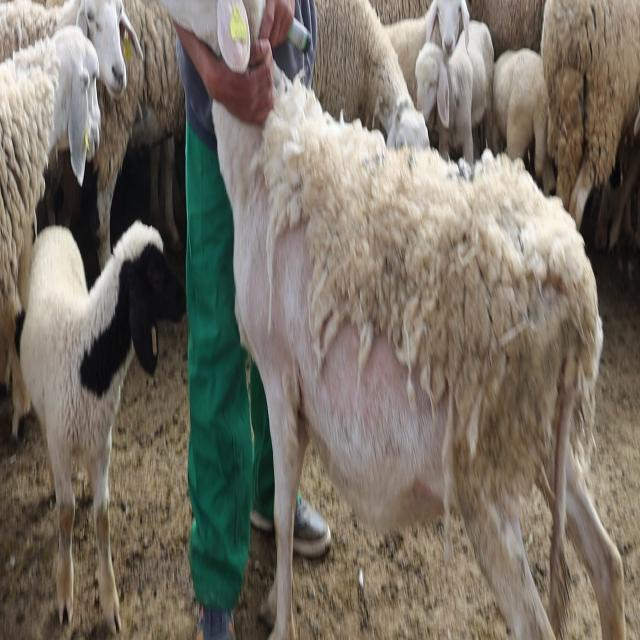Score_2: (213, 62, 625, 639)
